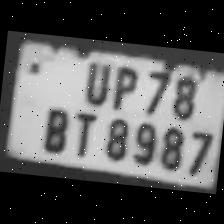7: (136, 62, 171, 116), (181, 123, 214, 177)
8: (166, 66, 200, 118), (98, 110, 132, 162), (154, 120, 188, 172)
9: (128, 114, 160, 165)
B: (38, 100, 72, 152)
P: (106, 61, 140, 112)
T: (66, 106, 102, 156)
U: (76, 56, 114, 104)
